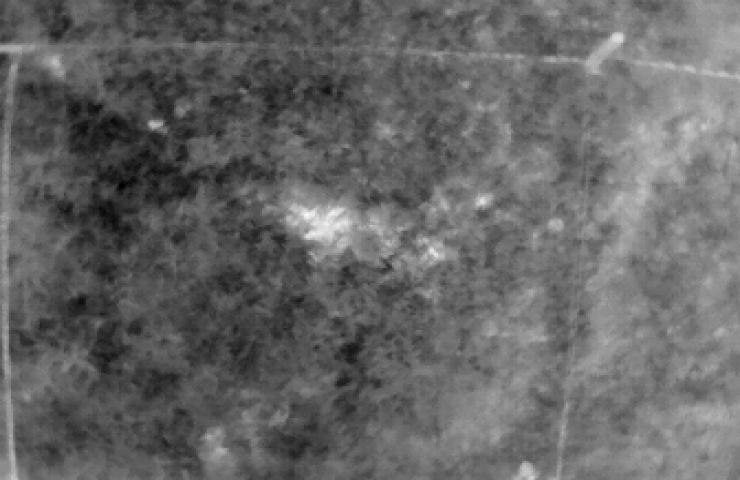landmines: (284, 194, 369, 267)
